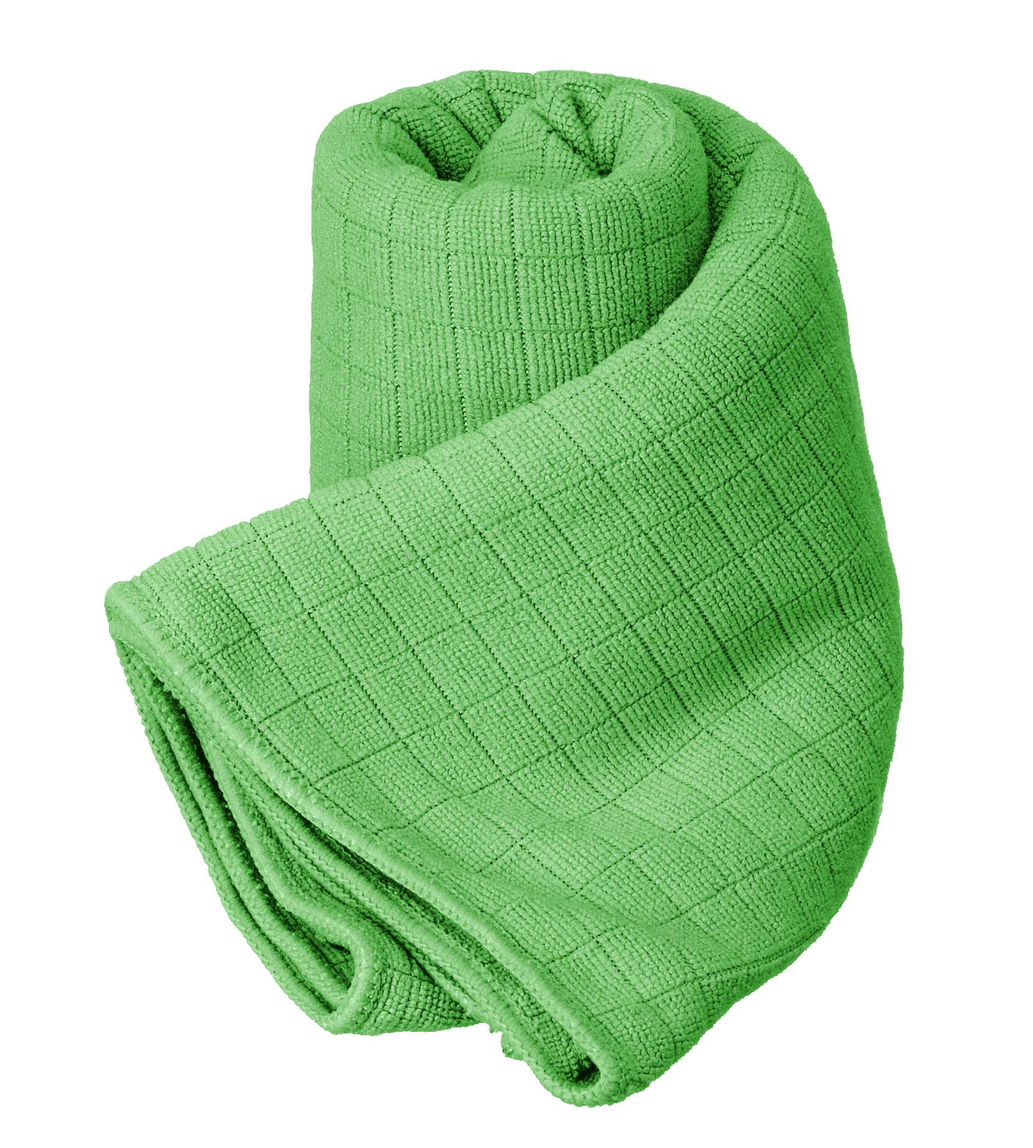Towel: (103, 26, 939, 1148)
